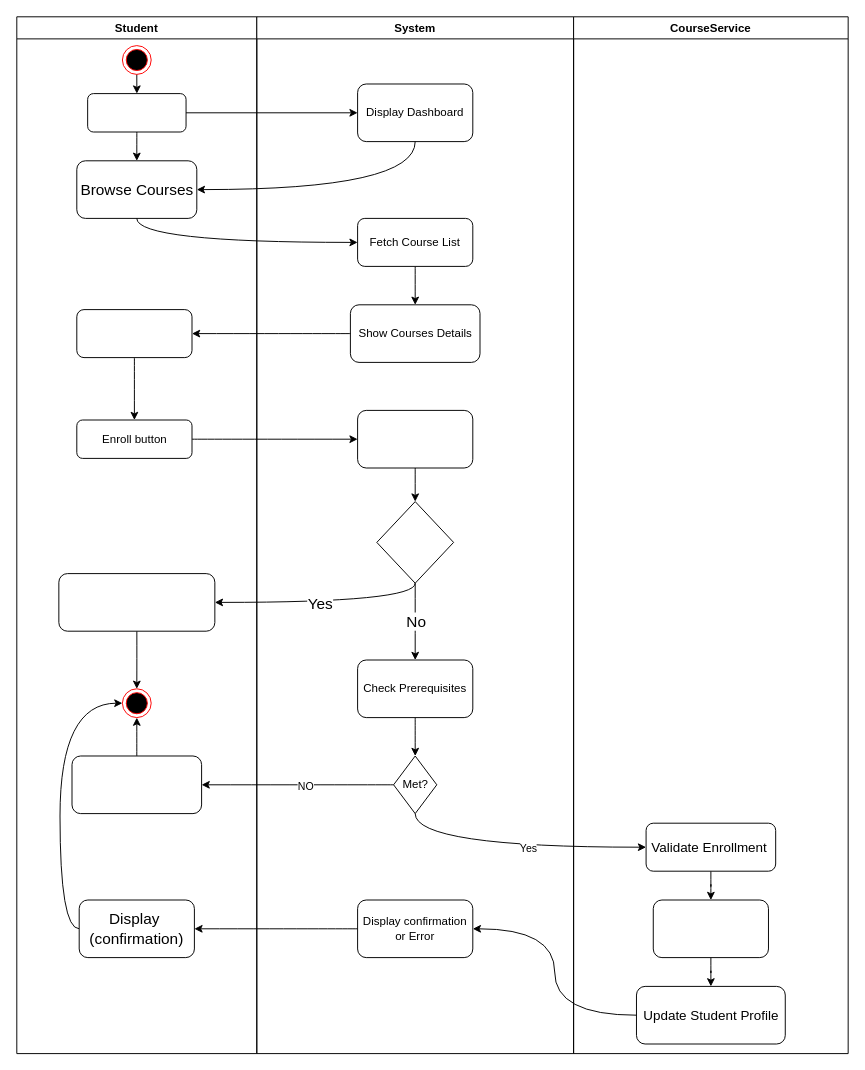
Some shapes in this 865 by 1070 pixel diagram are drawn without their labels. The shapes that lost their labels are listed below. From the top down, each one's centre as x and y in pixels, then its label:
pixel 136 112: log in
pixel 134 333: Select Course
pixel 415 438: Check Enrollment Statues
pixel 415 542: Already Enrolled
pixel 136 602: Display (Already Enrolled)
pixel 136 784: Display (prerequisites not met)
pixel 710 928: Enroll Student
